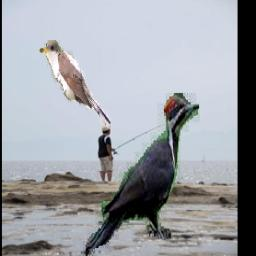Cuckoo: (41, 40, 111, 127)
Woodpecker: (84, 94, 201, 256)
